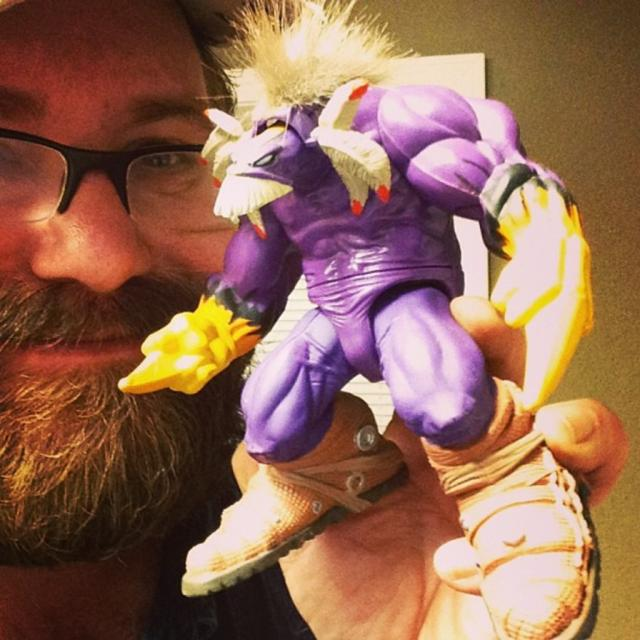Toy: (120, 0, 613, 639)
